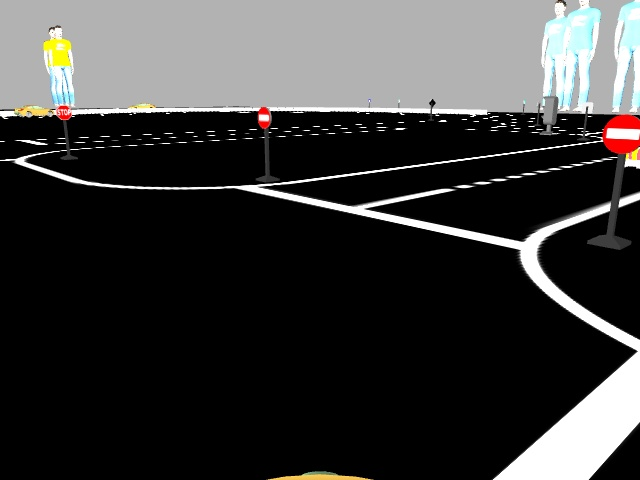NoEntry: (606, 115, 638, 154), (256, 107, 268, 127)
Stop: (54, 104, 70, 120)
